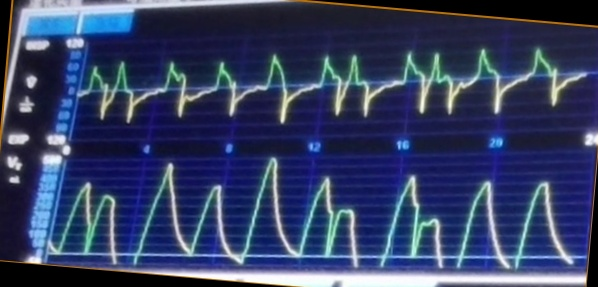Double_Triggering Flow: (85, 38, 584, 125)
Double_Triggering Volume: (55, 157, 568, 270)
